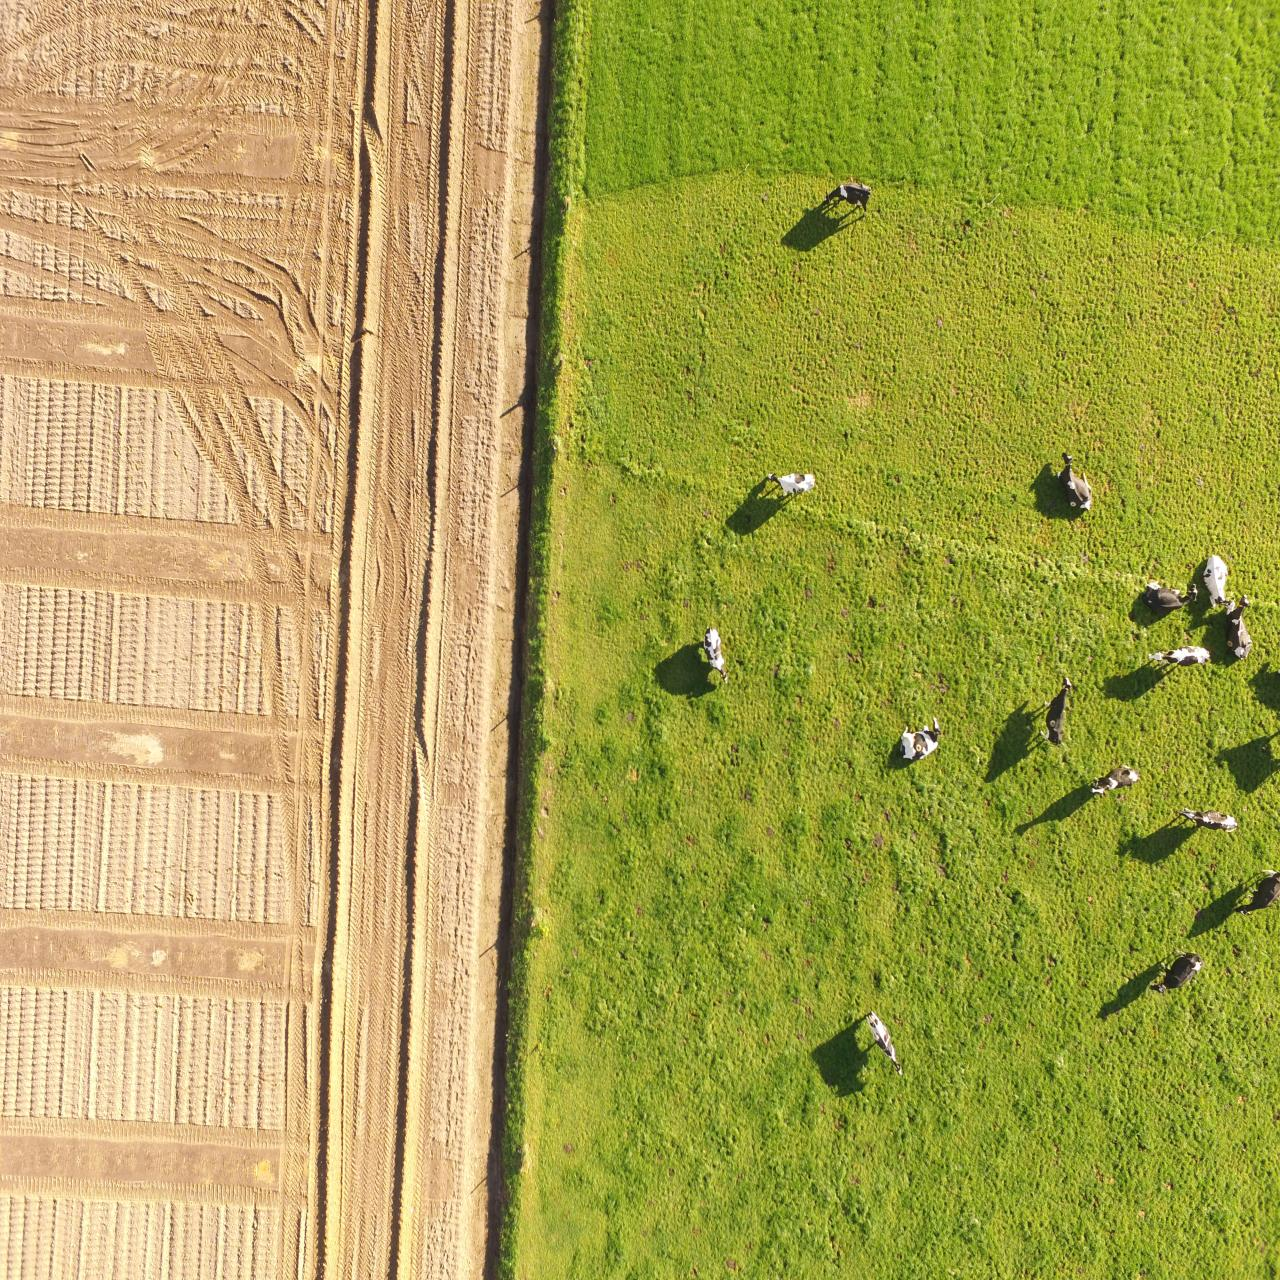cow: (860, 1007, 905, 1080), (891, 709, 940, 767), (1039, 672, 1074, 747), (1232, 867, 1280, 921), (1055, 451, 1096, 513), (1137, 576, 1197, 614), (697, 620, 731, 687), (1197, 549, 1233, 606), (1151, 949, 1200, 992), (1225, 594, 1252, 665), (1145, 642, 1212, 670), (1083, 763, 1139, 796), (761, 467, 818, 498), (823, 182, 871, 215), (1173, 811, 1239, 833)
